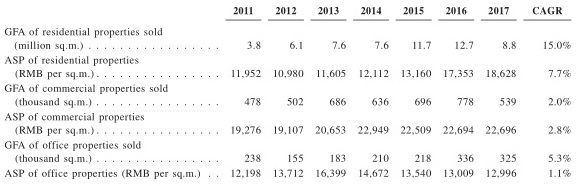column: (3, 1, 219, 186), (531, 1, 571, 186), (483, 1, 518, 186), (357, 1, 390, 186), (442, 1, 475, 186), (230, 1, 262, 186), (273, 1, 305, 186), (400, 1, 432, 186), (314, 1, 346, 184)
row: (1, 140, 576, 152), (1, 41, 576, 52), (1, 69, 575, 80), (1, 55, 576, 65), (1, 83, 576, 93), (1, 125, 576, 135), (1, 154, 576, 164), (1, 169, 576, 179), (1, 98, 575, 108), (1, 5, 574, 15), (1, 27, 576, 36), (1, 112, 576, 121)
